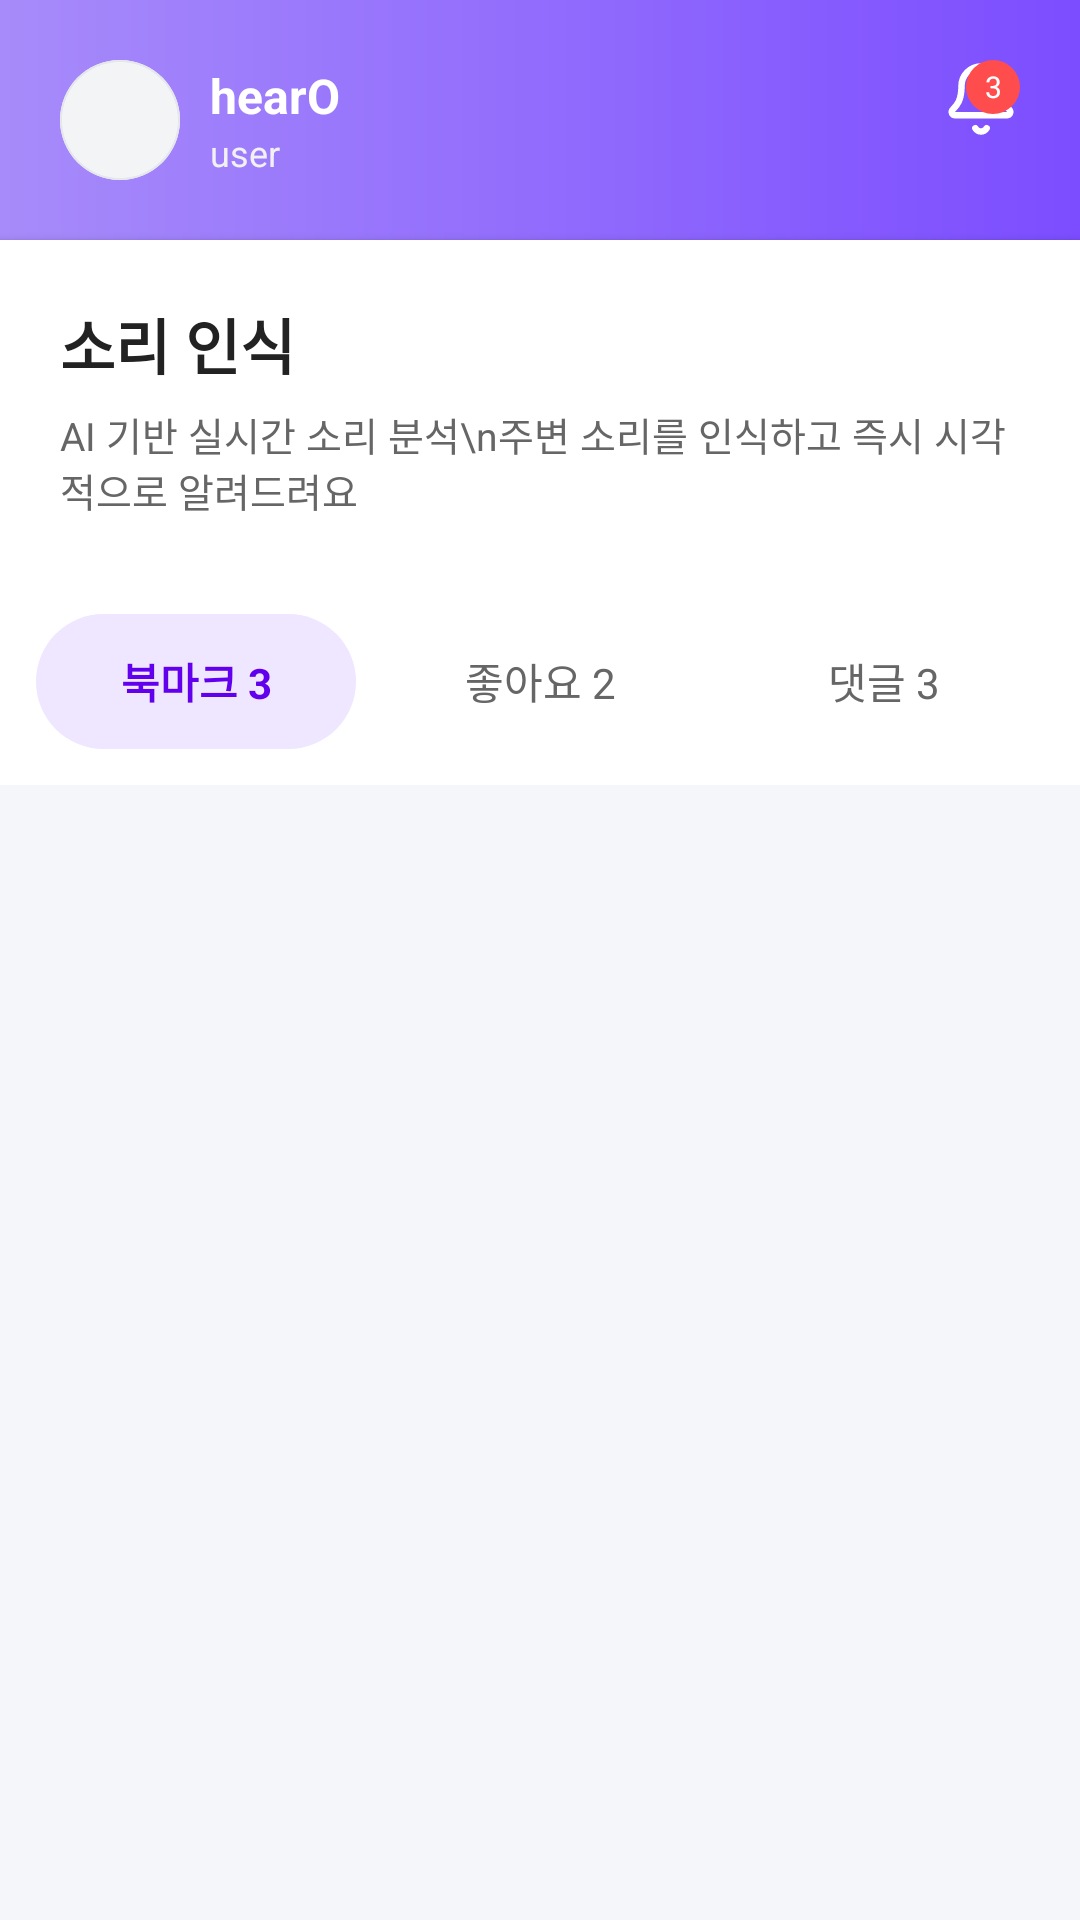

Icon click points for this 1080*1920 phone screenshot, format (x=x, y=y):
alarm: (x=984, y=97)
